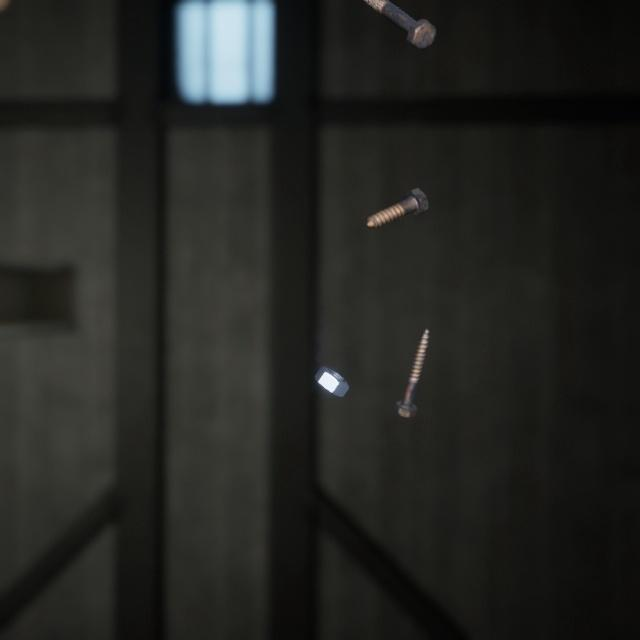bolt: (389, 306, 433, 404), (365, 0, 441, 47), (362, 169, 433, 219)
nut: (312, 342, 355, 383)
